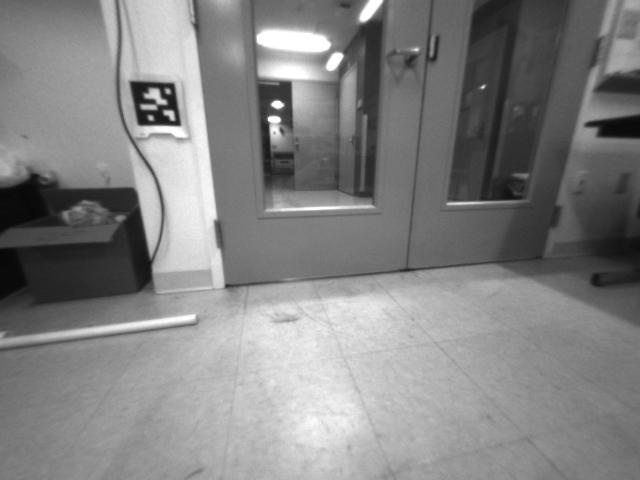door_handle: (382, 39, 423, 68)
